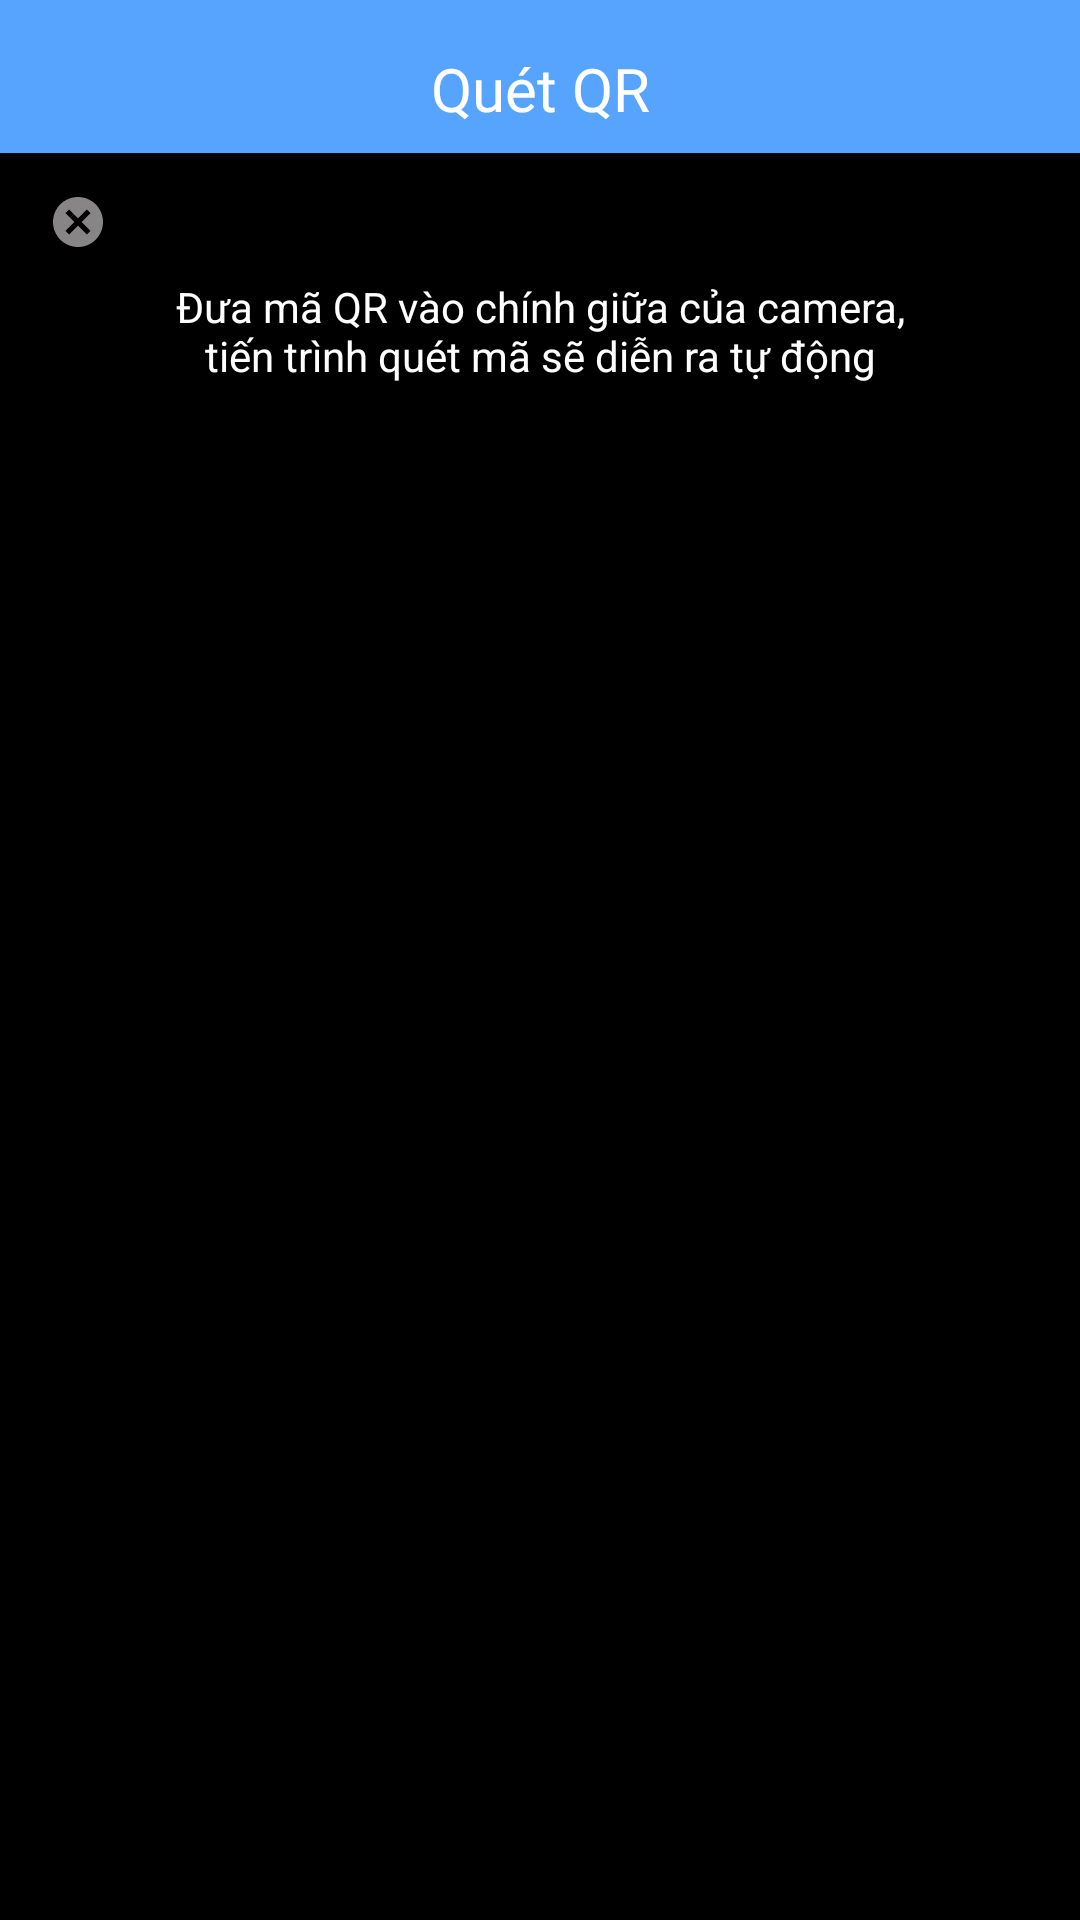

Locate icon controls on the screen. Image size 1080 × 1920, boxes as Rect(x1, y1, x2, y2).
close: Rect(53, 197, 103, 247)
